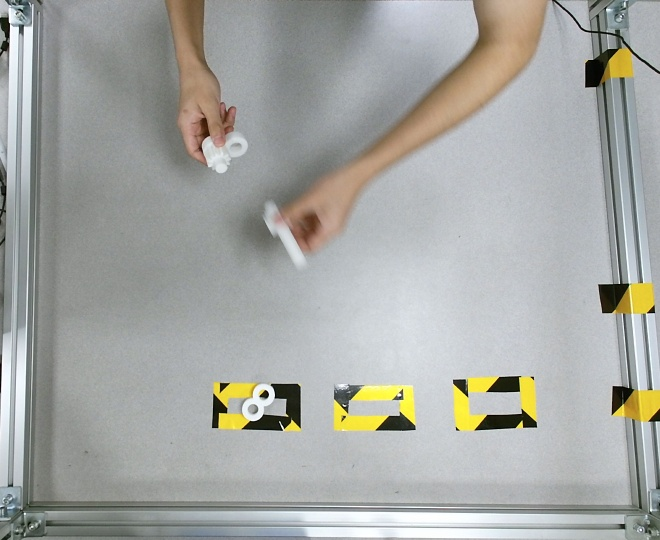stage_2: (201, 131, 248, 172)
